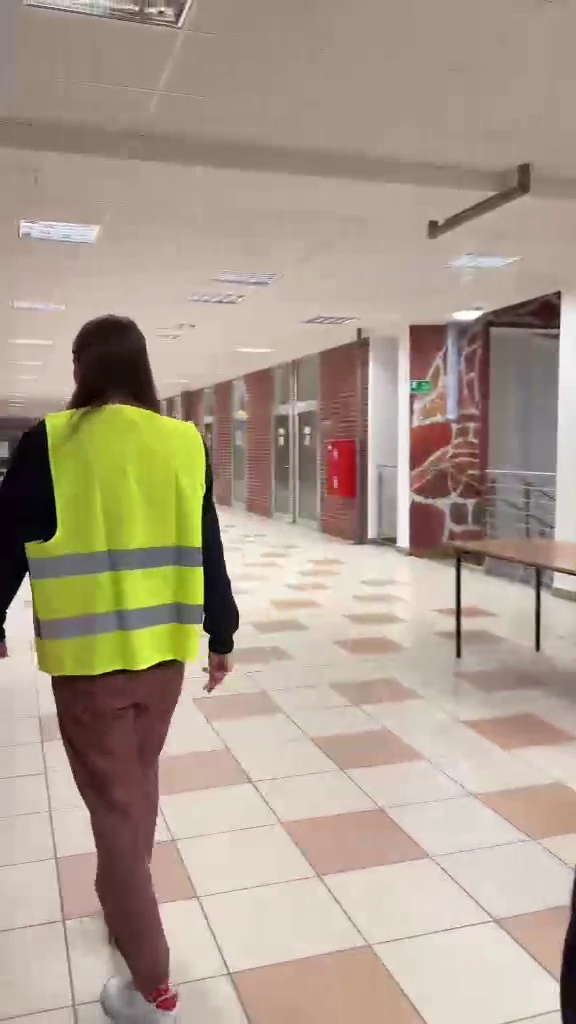vest: (8, 315, 275, 1007)
